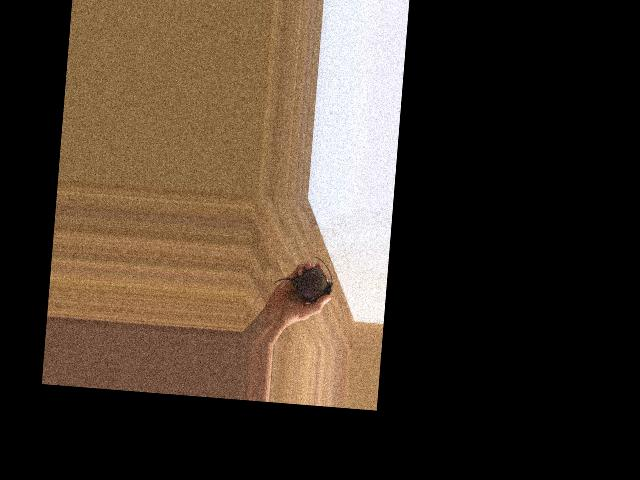beet: (272, 252, 335, 304)
